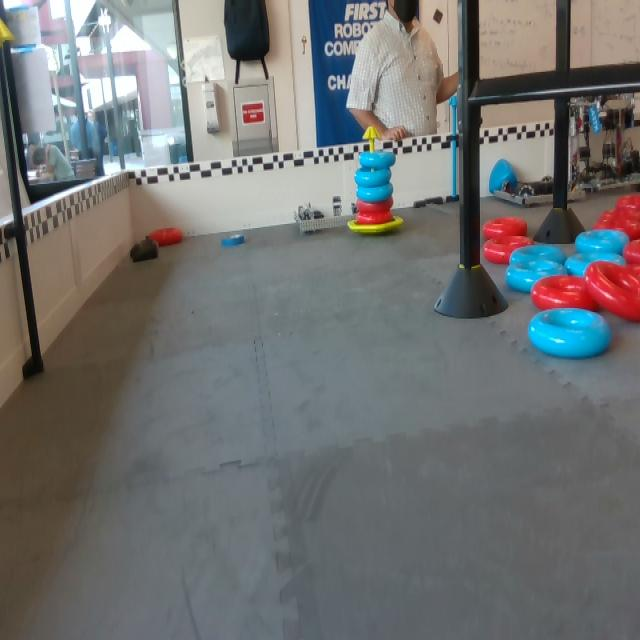Blue-Ring: (526, 304, 614, 359), (508, 257, 573, 293), (567, 252, 628, 275), (510, 243, 566, 267), (355, 184, 394, 204), (359, 149, 396, 169), (355, 168, 392, 186), (219, 231, 246, 249)
Mobile-Goal: (345, 125, 408, 235)
Red-Ring: (585, 258, 639, 321), (532, 274, 600, 309), (482, 234, 534, 263), (484, 215, 528, 237), (358, 197, 395, 217), (149, 225, 183, 245), (598, 209, 628, 231), (616, 192, 639, 220), (356, 210, 394, 226), (622, 238, 639, 264)
Yellow-Stake-Head: (0, 18, 15, 41), (362, 126, 382, 140)
zblue-Stake-Head: (448, 95, 458, 106)
